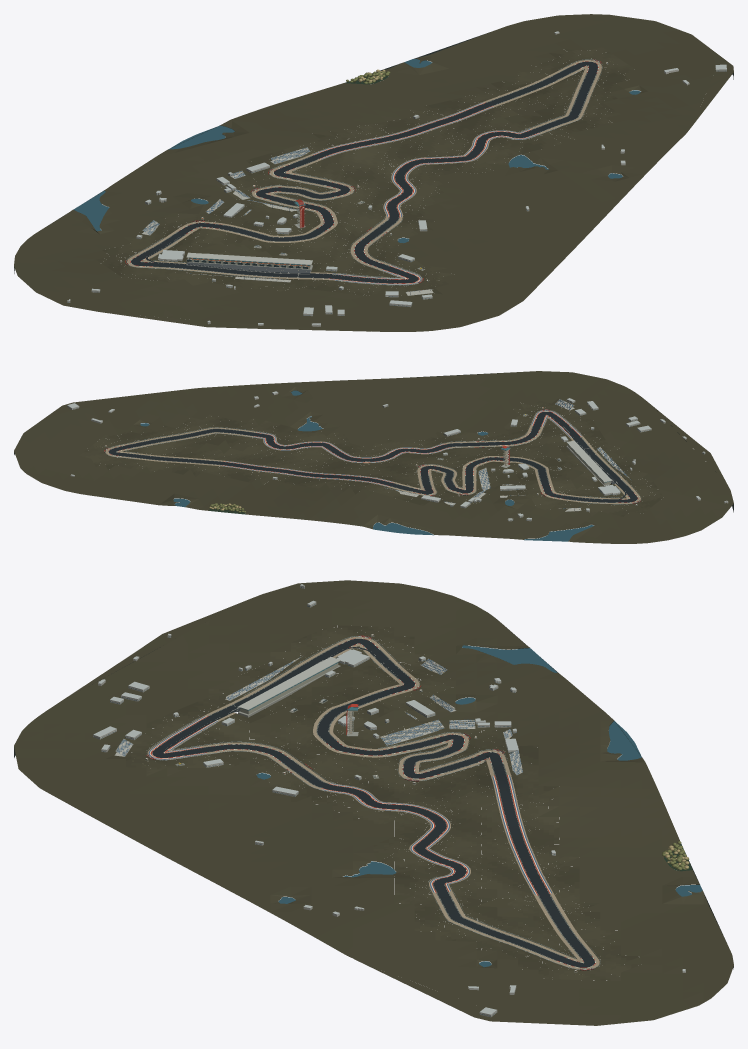
The model's file is Austin.glb.
3 renders of one model, top to bottom at view 1: azimuth 30°, elevation 25°; view 2: azimuth 150°, elevation 25°; view 3: azimuth 270°, elevation 25°, orthographic. The views are drawn at different scales.
Visible parts, largest first — view 1: terrain/ground, terrain-ground-finish-1, terrain-ground-finish-2, terrain-ground-finish-3, road/asphalt, terrain-ground-finish-4, terrain-ground-finish-0, runoff/gravel, terrain-extension/land, shoulder/runoff, barriers/steel, painted-runoff/blue (+6 smaller); view 2: terrain/ground, terrain-ground-finish-1, terrain-ground-finish-3, terrain-ground-finish-2, road/asphalt, terrain-ground-finish-4, terrain-ground-finish-0, runoff/gravel, terrain-extension/land, shoulder/runoff, painted-runoff/edge, painted-runoff/blue (+5 smaller); view 3: terrain/ground, terrain-ground-finish-1, terrain-ground-finish-3, terrain-ground-finish-2, road/asphalt, terrain-ground-finish-4, terrain-ground-finish-0, runoff/gravel, terrain-extension/land, shoulder/runoff, barriers/steel, painted-runoff/edge (+5 smaller).
Part boxes in pixels (left/top/right/bottom): terrain/ground: left=14, top=14, right=714, bottom=331; terrain-ground-finish-1: left=96, top=49, right=629, bottom=297; terrain-ground-finish-2: left=100, top=50, right=636, bottom=294; terrain-ground-finish-3: left=118, top=47, right=634, bottom=296; road/asphalt: left=131, top=61, right=597, bottom=283; terrain-ground-finish-4: left=128, top=49, right=627, bottom=295; terrain-ground-finish-0: left=102, top=53, right=625, bottom=294; runoff/gravel: left=127, top=60, right=601, bottom=284; terrain-extension/land: left=38, top=39, right=733, bottom=331; shoulder/runoff: left=130, top=61, right=598, bottom=283; barriers/steel: left=126, top=59, right=602, bottom=285; painted-runoff/blue: left=313, top=102, right=539, bottom=284; terrain/ground: left=14, top=371, right=731, bottom=543; terrain-ground-finish-1: left=84, top=400, right=663, bottom=515; terrain-ground-finish-3: left=79, top=403, right=658, bottom=515; terrain-ground-finish-2: left=83, top=402, right=662, bottom=513; road/asphalt: left=108, top=411, right=637, bottom=502; terrain-ground-finish-4: left=85, top=403, right=653, bottom=512; terrain-ground-finish-0: left=106, top=398, right=661, bottom=516; runoff/gravel: left=105, top=410, right=640, bottom=503; terrain-extension/land: left=30, top=390, right=733, bottom=515; shoulder/runoff: left=108, top=415, right=637, bottom=502; painted-runoff/edge: left=221, top=411, right=581, bottom=486; painted-runoff/blue: left=223, top=410, right=581, bottom=486; terrain/ground: left=14, top=580, right=733, bottom=1025; terrain-ground-finish-1: left=110, top=625, right=640, bottom=980; terrain-ground-finish-3: left=116, top=629, right=631, bottom=980; terrain-ground-finish-2: left=130, top=625, right=631, bottom=980; road/asphalt: left=152, top=638, right=594, bottom=967; terrain-ground-finish-4: left=128, top=632, right=630, bottom=979; terrain-ground-finish-0: left=106, top=625, right=640, bottom=971; runoff/gravel: left=147, top=636, right=599, bottom=969; terrain-extension/land: left=56, top=580, right=587, bottom=1025; shoulder/runoff: left=153, top=638, right=595, bottom=968; barriers/steel: left=147, top=636, right=600, bottom=969; painted-runoff/edge: left=149, top=716, right=551, bottom=895.
Bounding box in the file's own units: 2526 × 115 × 1746.
